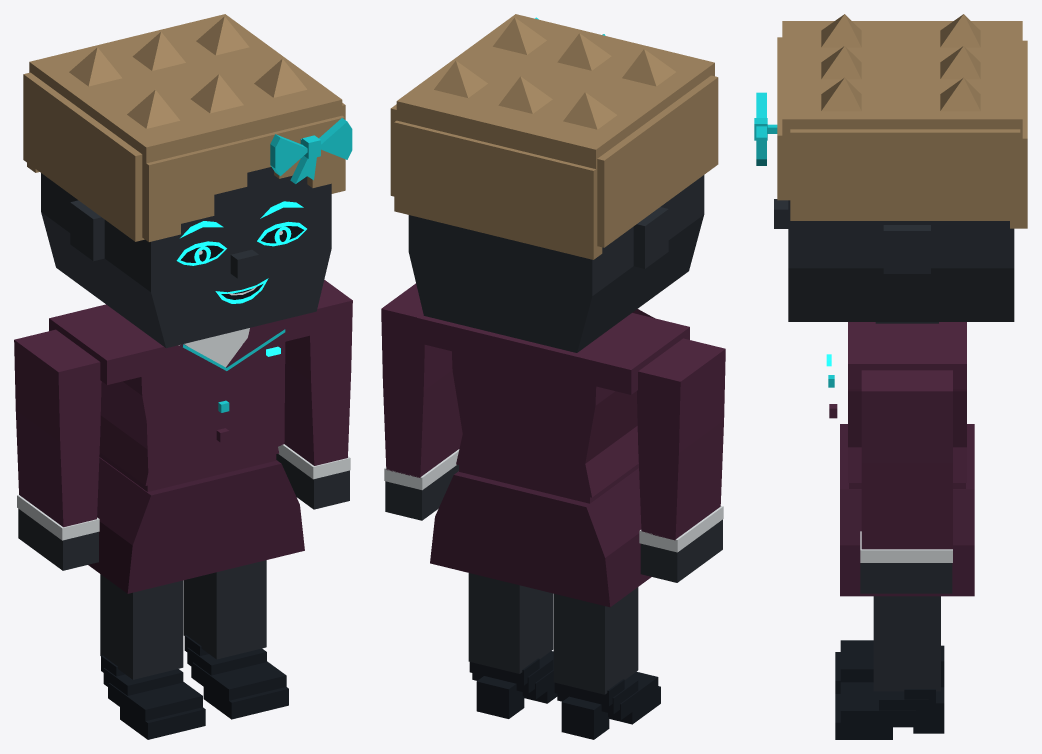
The model's file is agent_female_base_spiky.glb.
3 renders of one model, left to right at view 1: azimuth 30°, elevation 25°; view 2: azimuth 150°, elevation 25°; view 3: azimuth 270°, elevation 25°, orthographic. The views are drawn at different scales.
Parts seen in each view (by area): view 1: char_torso_visual, char_hair_visual, char_head_visual, char_arm_negx_visual, char_leg_negx_visual, char_leg_posx_visual, char_arm_posx_visual, char_bow_visual, char_hand_negx_visual, char_hand_posx_visual, char_eye_negx_visual, char_eye_posx_visual (+1 smaller); view 2: char_hair_visual, char_torso_visual, char_head_visual, char_arm_negx_visual, char_arm_posx_visual, char_leg_negx_visual, char_leg_posx_visual, char_hand_negx_visual, char_hand_posx_visual; view 3: char_hair_visual, char_head_visual, char_arm_posx_visual, char_torso_visual, char_leg_posx_visual, char_hand_posx_visual, char_leg_negx_visual, char_bow_visual.
Part boxes in pixels (bbox=[...]): char_torso_visual: bbox=[49, 304, 317, 593]; char_hair_visual: bbox=[23, 14, 345, 241]; char_head_visual: bbox=[41, 167, 331, 348]; char_arm_negx_visual: bbox=[14, 329, 101, 540]; char_leg_negx_visual: bbox=[100, 574, 205, 739]; char_leg_posx_visual: bbox=[183, 560, 288, 719]; char_arm_posx_visual: bbox=[278, 280, 352, 479]; char_bow_visual: bbox=[270, 118, 352, 183]; char_hand_negx_visual: bbox=[18, 508, 98, 570]; char_hand_posx_visual: bbox=[276, 454, 349, 509]; char_eye_negx_visual: bbox=[176, 241, 226, 265]; char_eye_posx_visual: bbox=[257, 221, 306, 246]; char_hair_visual: bbox=[390, 14, 718, 259]; char_torso_visual: bbox=[417, 309, 689, 607]; char_head_visual: bbox=[408, 175, 704, 352]; char_arm_negx_visual: bbox=[637, 338, 725, 552]; char_arm_posx_visual: bbox=[381, 283, 462, 490]; char_leg_negx_visual: bbox=[553, 587, 660, 739]; char_leg_posx_visual: bbox=[468, 573, 557, 718]; char_hand_negx_visual: bbox=[640, 519, 722, 582]; char_hand_posx_visual: bbox=[385, 464, 458, 520]; char_hair_visual: bbox=[777, 14, 1027, 228]; char_head_visual: bbox=[774, 199, 1014, 323]; char_arm_posx_visual: bbox=[860, 370, 952, 562]; char_torso_visual: bbox=[828, 322, 974, 596]; char_leg_posx_visual: bbox=[835, 596, 944, 739]; char_hand_posx_visual: bbox=[860, 563, 952, 593]; char_leg_negx_visual: bbox=[835, 640, 944, 693]; char_bow_visual: bbox=[754, 92, 777, 165].
Size of the model in its own units: 0.88 by 1.84 by 0.6895.
